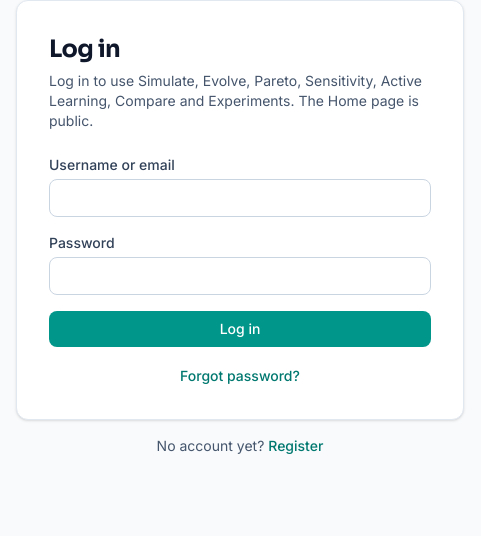
Login page › shows "wrong credentials" on 401
The image size is (481, 536).
Type "alice" into the field labelled "Username or email".
click(240, 198); type("alice")  # box x1=49 y1=179 x2=431 y2=217
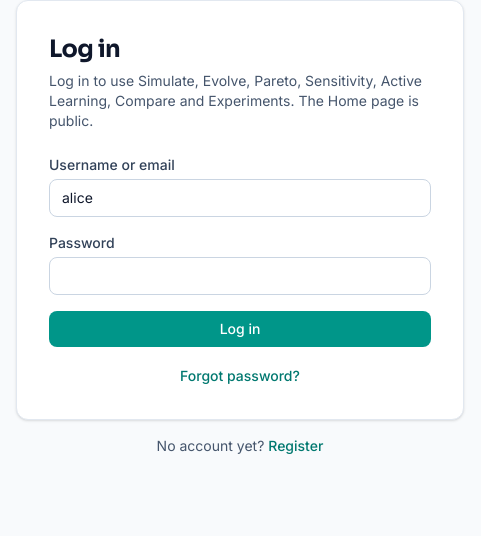
Type "pw" into the password field labelled "Password".
click(240, 276); type("pw")  # box x1=49 y1=257 x2=431 y2=295
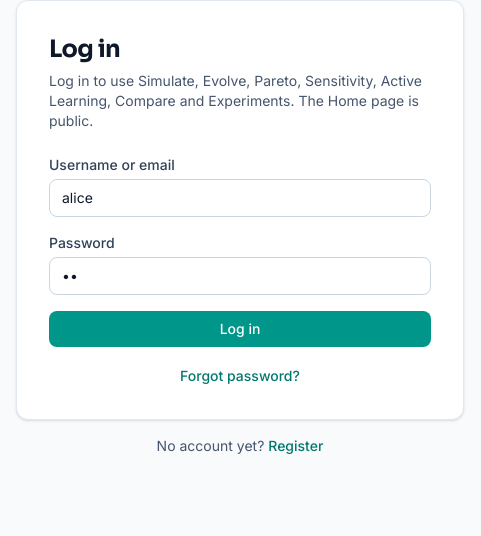
Click the button "Log in".
click(240, 329)  # box x1=49 y1=311 x2=431 y2=347
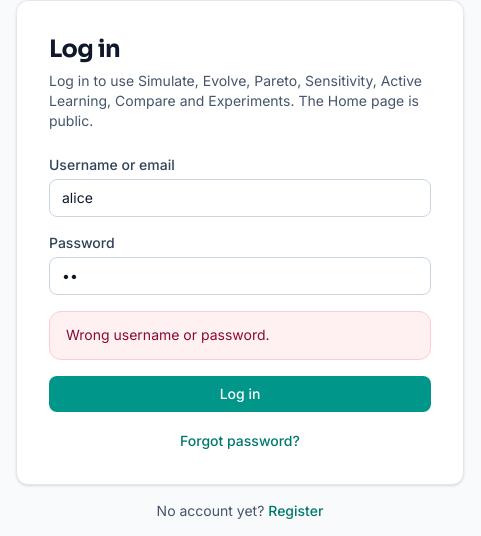
Now the message reads "Wrong username or password.", box x1=66 y1=326 x2=270 y2=343
